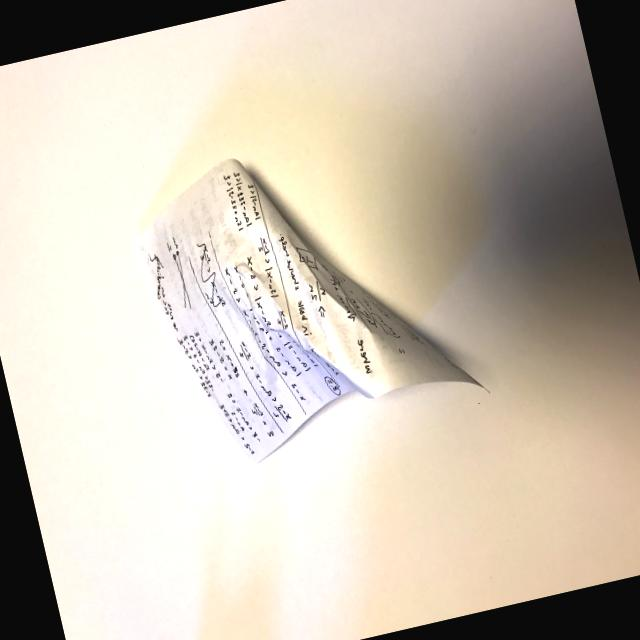Paper: (120, 111, 492, 476)
